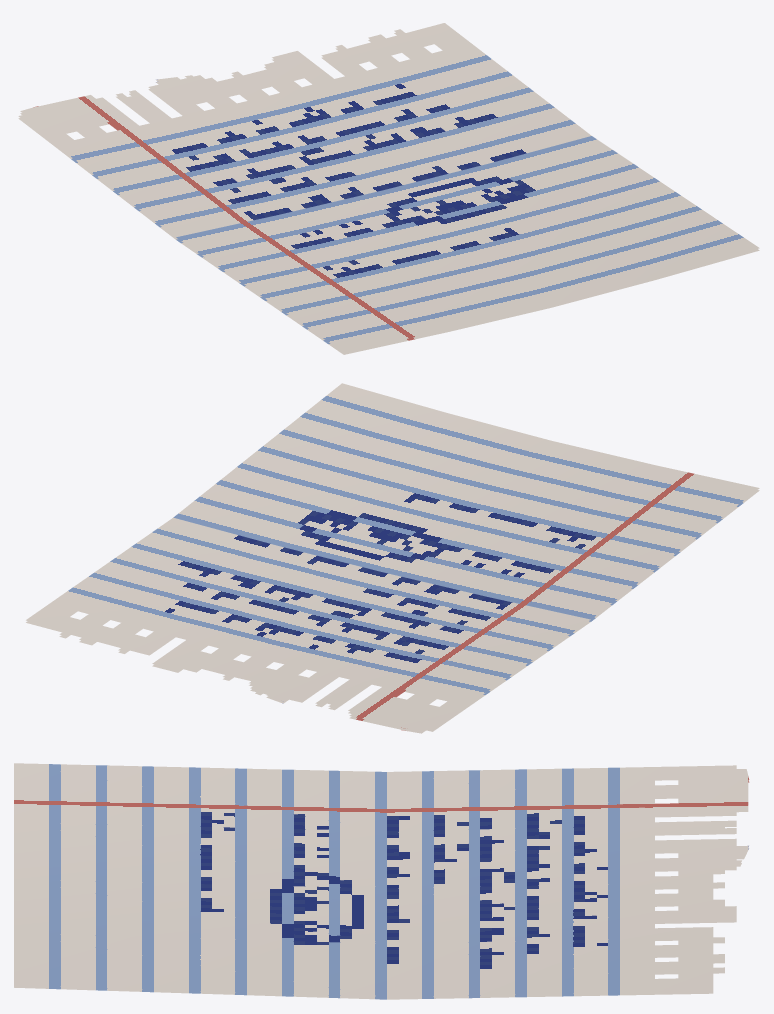
The model's file is psx_torn_note_page.glb.
3 renders of one model, top to bottom at view 1: azimuth 30°, elevation 25°; view 2: azimuth 150°, elevation 25°; view 3: azimuth 270°, elevation 25°, orthographic. The views are drawn at different scales.
Parts seen in each view (by area): view 1: torn_note_page; view 2: torn_note_page; view 3: torn_note_page.
Boxes of the visible parts, x1,y1,x2,y2 form: torn_note_page: (18,23,759,354); torn_note_page: (26,383,759,733); torn_note_page: (14,763,749,999).
Size of the model in its own units: 0.15 by 0.0057 by 0.21.
1 material, 1 textured.
